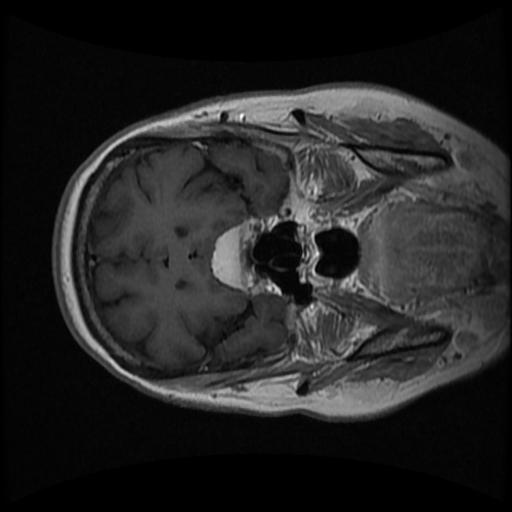meningioma: (210, 218, 254, 290)
